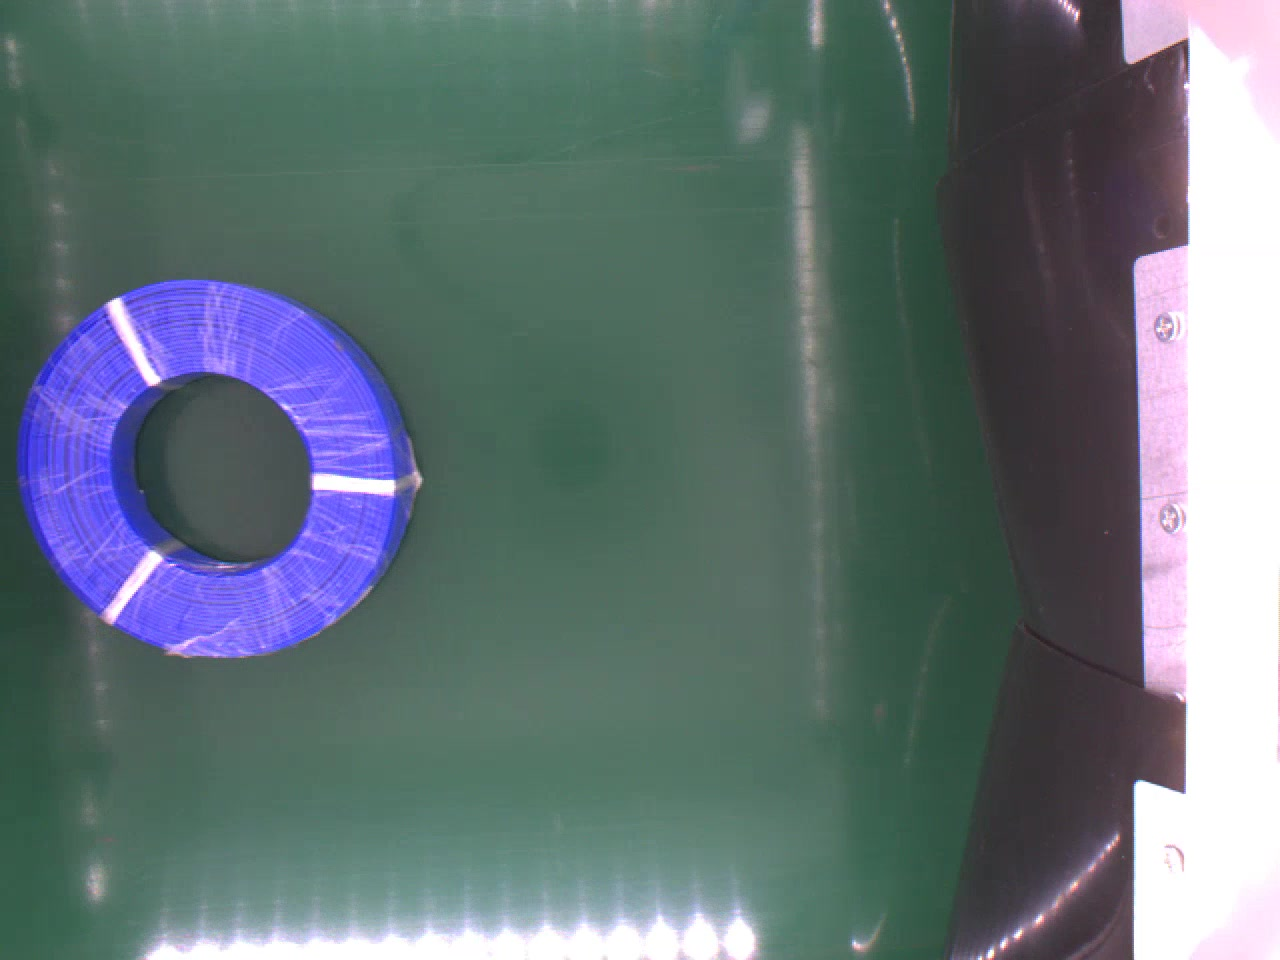blue: (19, 278, 427, 665)
